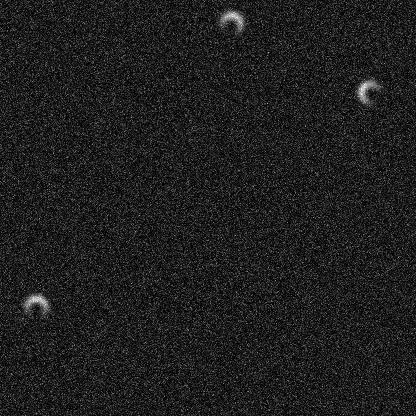Janus: (152, 366, 182, 396), (227, 148, 257, 178), (103, 1, 133, 31), (135, 366, 165, 396), (180, 296, 210, 326)
